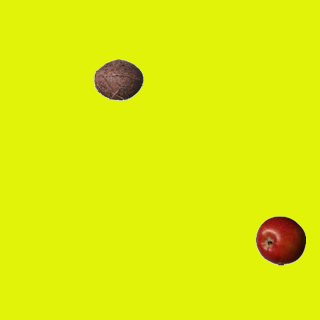Apple Braeburn: (255, 215, 305, 265)
Cocos: (93, 54, 143, 104)
